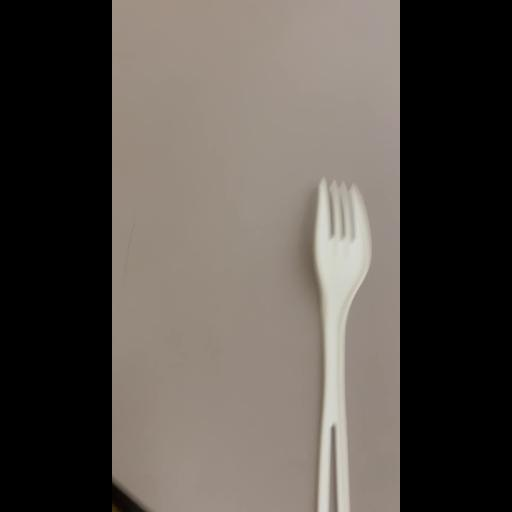utensil: (300, 176, 374, 512)
